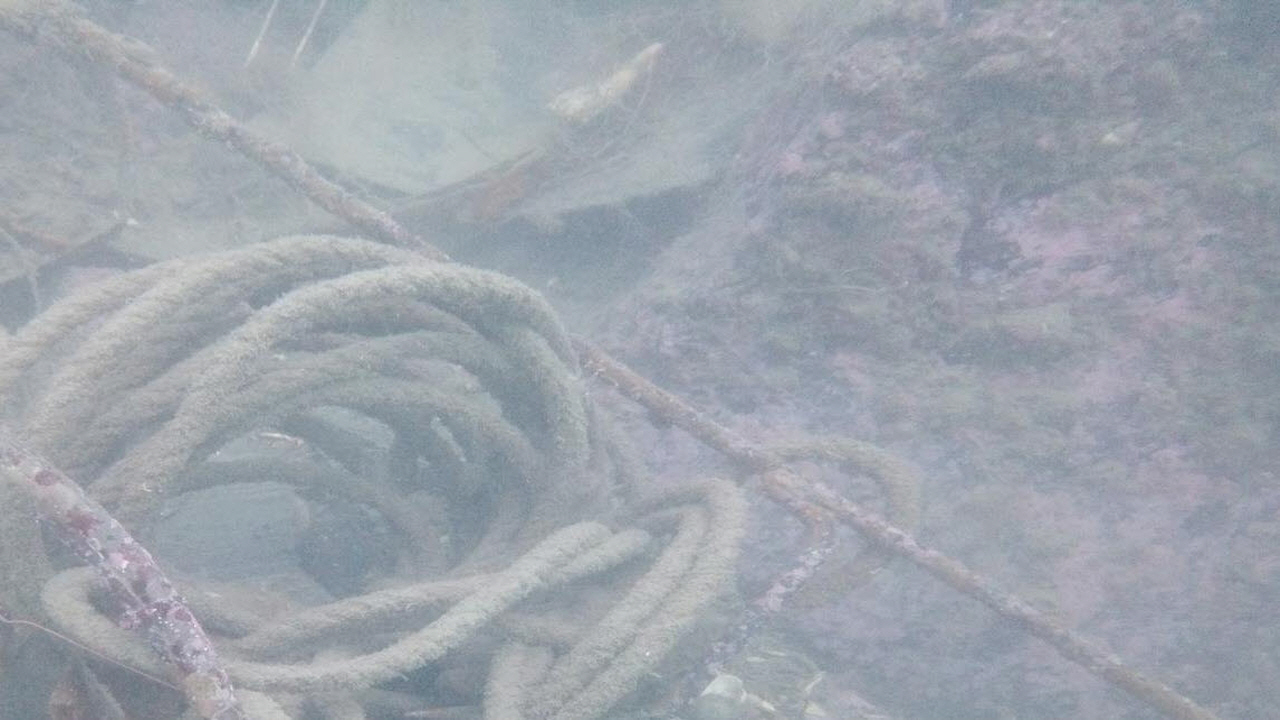bundle of ropes: (0, 231, 917, 720)
rope: (0, 0, 1220, 720)
